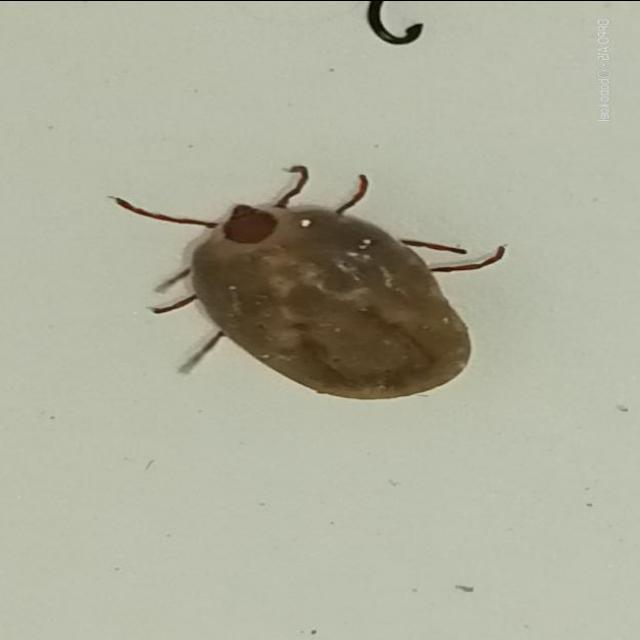Rhipicephalus Sanguineus-F-Fed: (112, 165, 509, 400)
